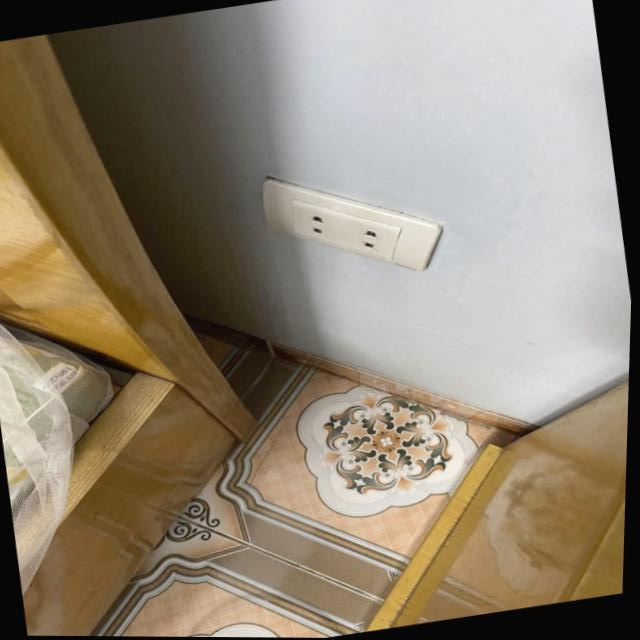outlet: (256, 151, 452, 295)
